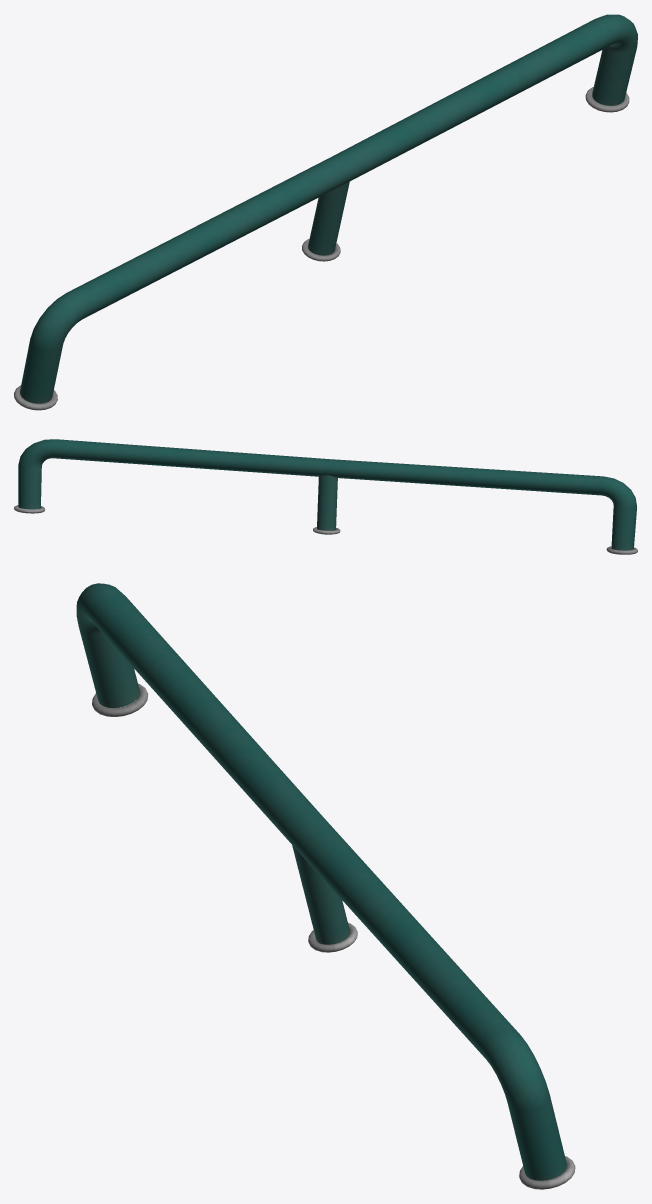
Rendered from SM_075_Guardrail_02_4.fbx.
3 renders of one model, top to bottom at view 1: azimuth 30°, elevation 25°; view 2: azimuth 150°, elevation 25°; view 3: azimuth 270°, elevation 25°, orthographic. The views are drawn at different scales.
Visible parts, largest first — view 1: SM_075_Guardrail_02_4; view 2: SM_075_Guardrail_02_4; view 3: SM_075_Guardrail_02_4.
Part boxes in pixels (box(x1,y1,x2,y2)): SM_075_Guardrail_02_4: box(14, 14, 637, 410); SM_075_Guardrail_02_4: box(14, 439, 637, 554); SM_075_Guardrail_02_4: box(76, 583, 575, 1189).
Size of the model in its own units: 167 by 70.4 by 21.72.
Materials: 1 (1 with a texture image).
